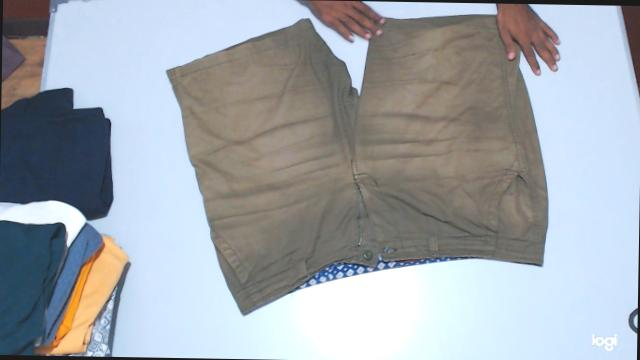new-garment: (167, 14, 548, 314)
